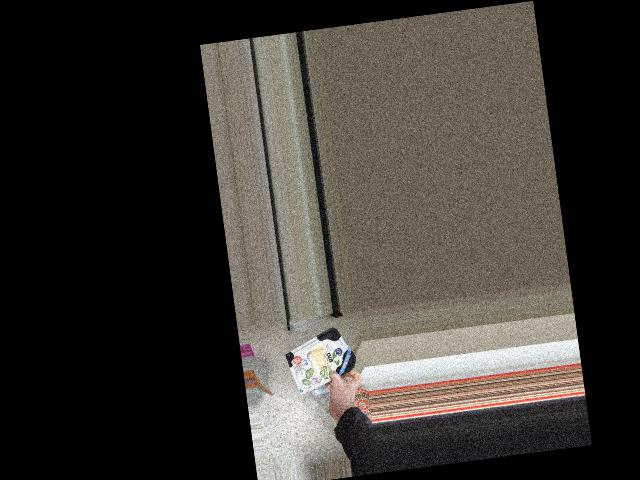cheese: (283, 329, 360, 385)
